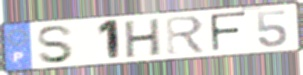1: (96, 18, 123, 62)
5: (255, 9, 289, 49)
F: (208, 10, 249, 53)
H: (124, 17, 162, 60)
R: (164, 14, 209, 56)
S: (35, 24, 76, 65)
